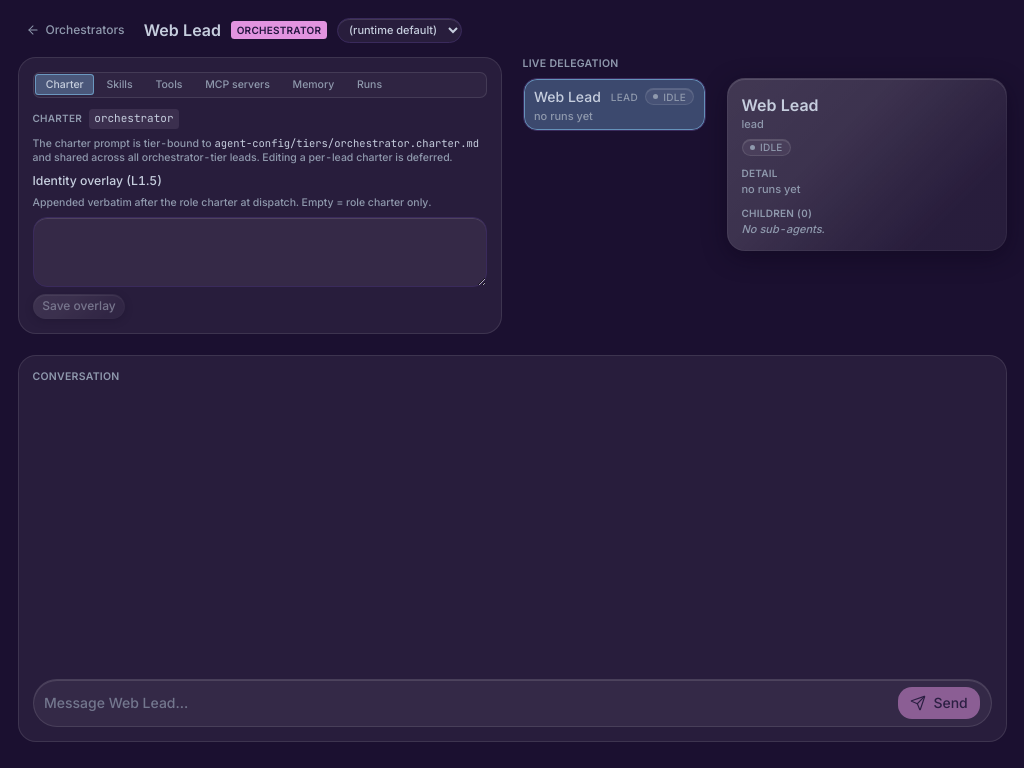
Test: OrchestratorDetailPage — Memory tab status SegControl › defaults to pending and re-queries the server on status change
expect the 1st heading "Web Lead" is shown: met, box x1=144 y1=18 x2=221 y2=42
Click the button with test id "seg-memory" at (313, 85), box x1=282 y1=74 x2=345 y2=95
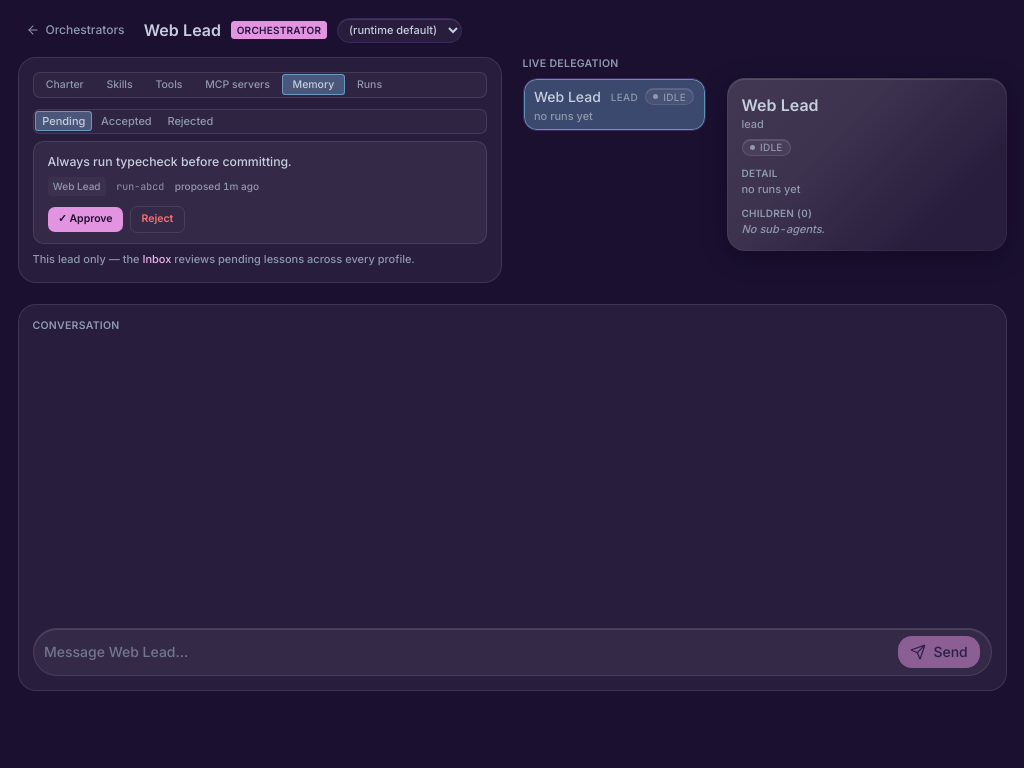
expect the element with test id "memory-lesson-les-1" is shown: met, box x1=32 y1=141 x2=486 y2=244
Click the button with test id "seg-accepted" at (126, 121), box x1=94 y1=111 x2=159 y2=131
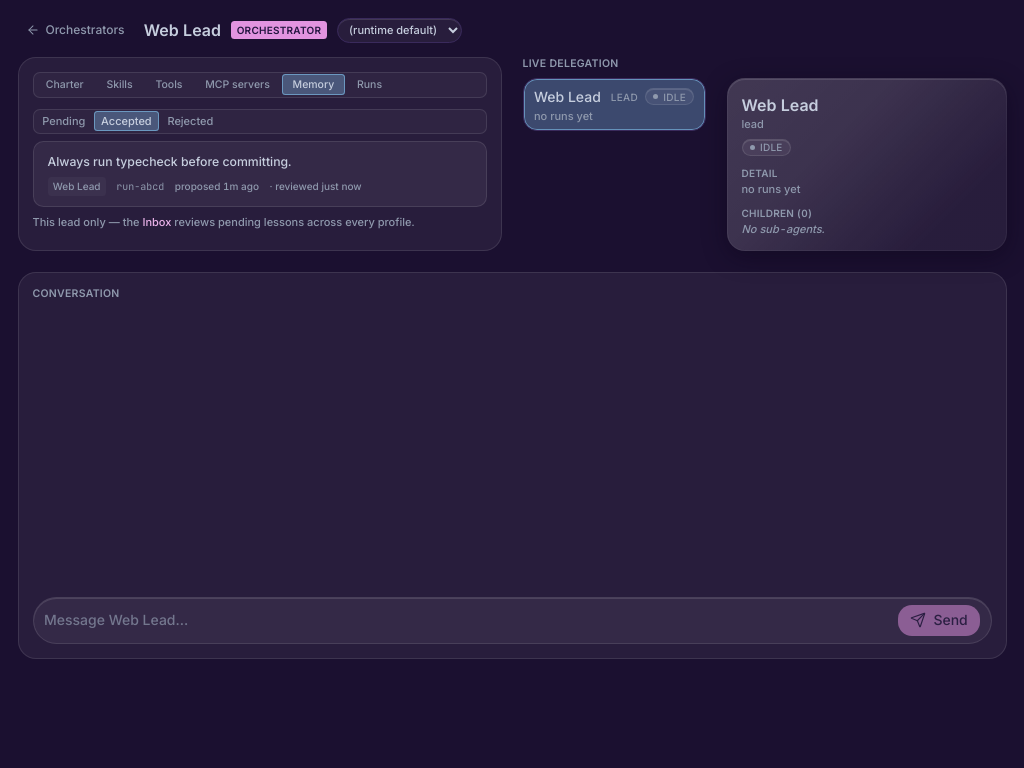
expect the element with test id "memory-lesson-les-2" is shown: met, box x1=32 y1=141 x2=486 y2=207
